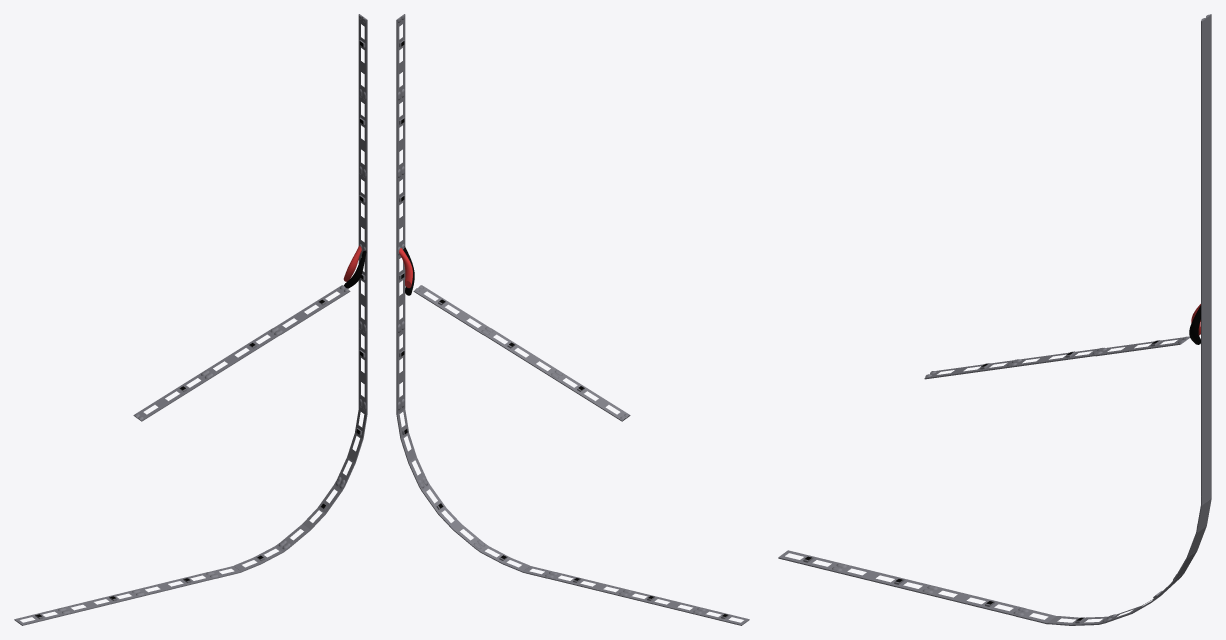
File: FIXED-LED2.glb
3 views of the same model, side by side, from view 1: azimuth 30°, elevation 25°; view 2: azimuth 150°, elevation 25°; view 3: azimuth 330°, elevation 25° (orthographic). The views are drawn at different scales.
Visible parts, largest first — view 1: Mesh_0.004; view 2: Mesh_0.004; view 3: Mesh_0.004.
Part boxes in pixels (x1,y1,x2,y2): Mesh_0.004: [14, 14, 367, 625]; Mesh_0.004: [396, 14, 749, 625]; Mesh_0.004: [778, 14, 1211, 625].
Bounding box in the file's own units: 31.05 × 44.85 × 1.39.
